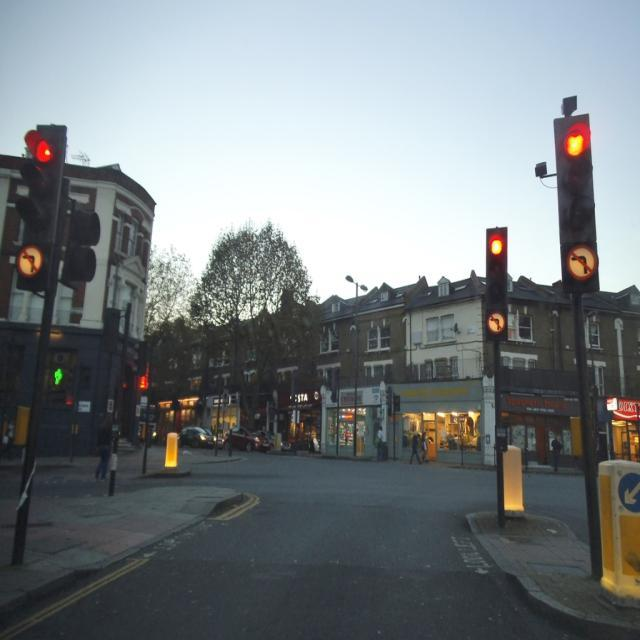traffic light: (553, 104, 601, 289), (16, 116, 70, 279), (482, 225, 514, 343)
